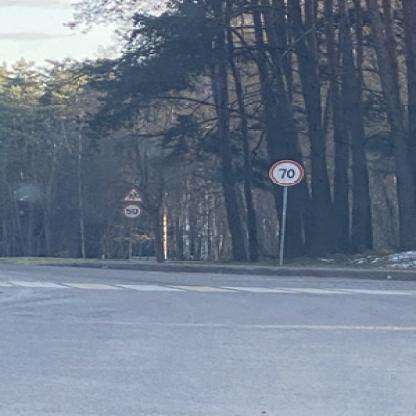speedlimit: (268, 159, 302, 184), (121, 204, 138, 218)
